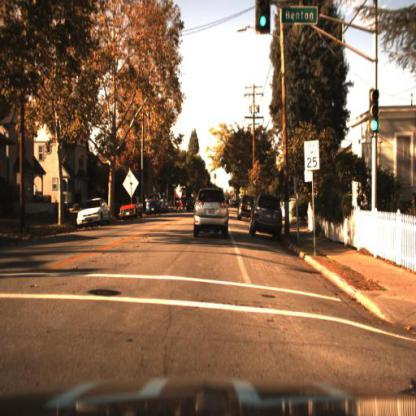car: (195, 189, 233, 238), (248, 195, 283, 237), (75, 197, 111, 233), (78, 198, 112, 229), (119, 195, 145, 226), (118, 198, 142, 226), (237, 193, 257, 224), (235, 192, 252, 227), (184, 189, 202, 220), (147, 192, 165, 216)
